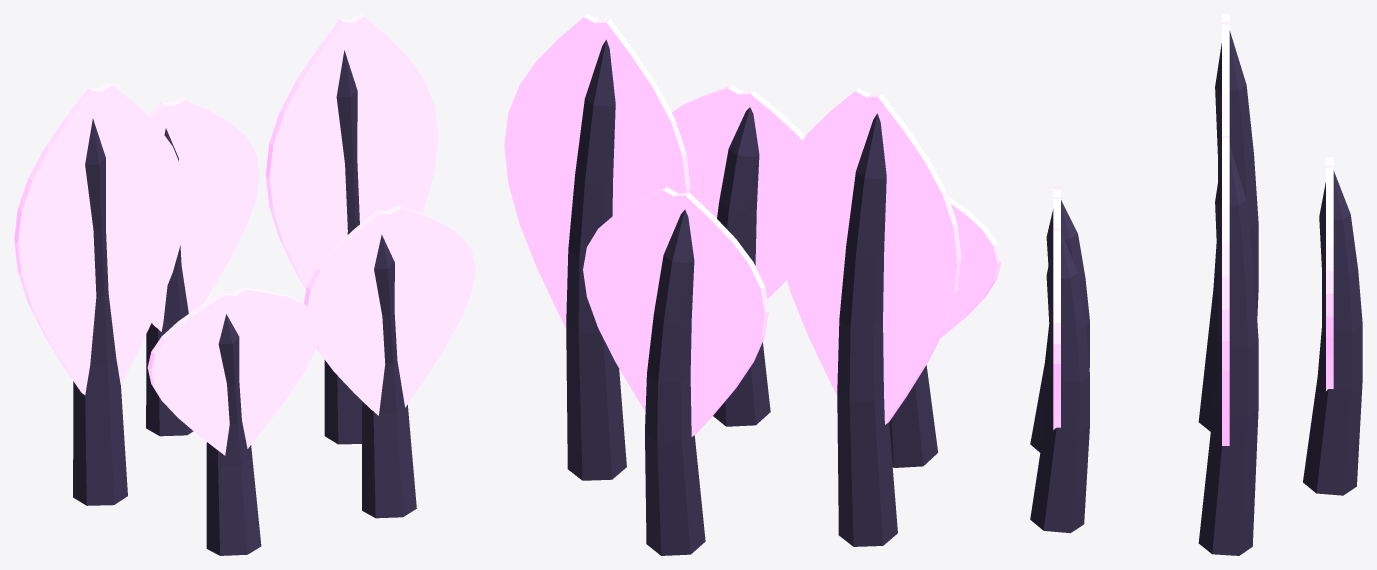
The model's file is GlowPolyps.fbx.
3 views of the same model, side by side, from view 1: azimuth 30°, elevation 25°; view 2: azimuth 150°, elevation 25°; view 3: azimuth 270°, elevation 25° (orthographic). The views are drawn at different scales.
Visible parts, largest first — view 1: GlowPolyps_Glow, GlowPolyps; view 2: GlowPolyps_Glow, GlowPolyps; view 3: GlowPolyps, GlowPolyps_Glow.
Part boxes in pixels (x1,y1,x2,y2): GlowPolyps_Glow: [14, 14, 475, 455]; GlowPolyps: [73, 50, 416, 555]; GlowPolyps_Glow: [504, 14, 1001, 436]; GlowPolyps: [566, 39, 937, 555]; GlowPolyps: [1030, 30, 1362, 555]; GlowPolyps_Glow: [1053, 14, 1333, 445].
Size of the model in its own units: 191 by 182 by 132.
Materials: 2 (1 with a texture image).
